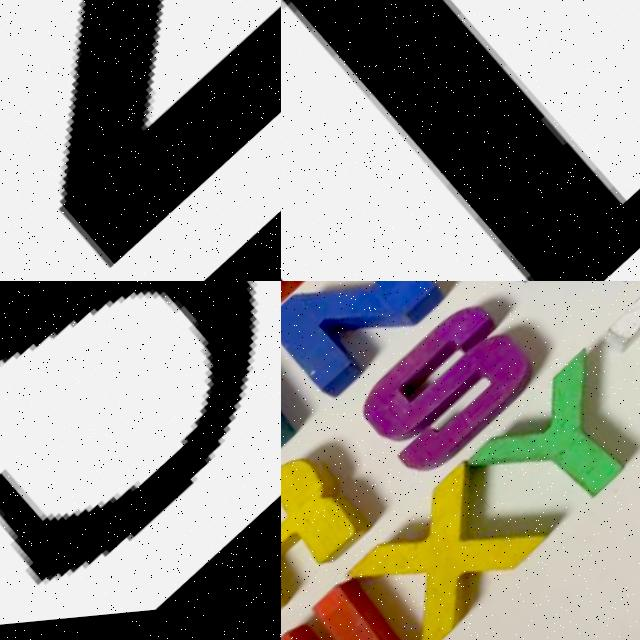2: (0, 0, 281, 281)
L: (281, 0, 640, 281)
M: (281, 346, 307, 537)
N: (281, 281, 453, 408)
R: (281, 433, 386, 638)
S: (0, 281, 281, 640), (354, 299, 543, 491)
T: (488, 281, 640, 348)
X: (344, 456, 557, 640)
Y: (465, 335, 640, 557)
